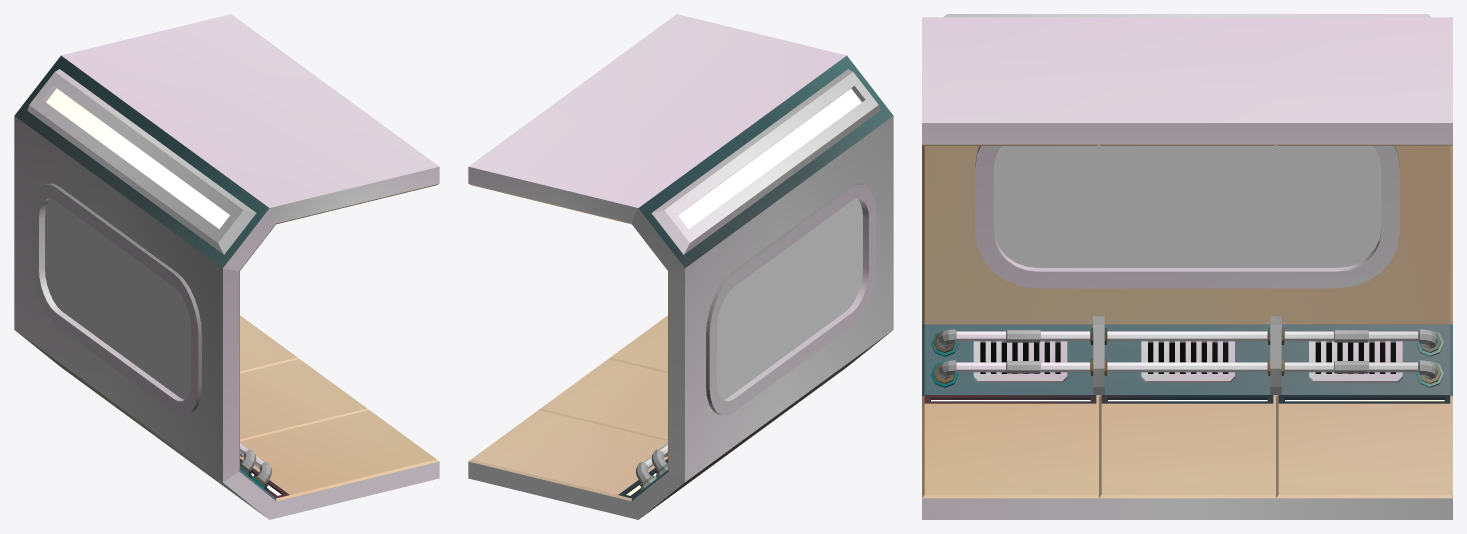
Rendered from C_Window.fbx.
3 renders of one model, left to right at view 1: azimuth 30°, elevation 25°; view 2: azimuth 150°, elevation 25°; view 3: azimuth 270°, elevation 25°, orthographic. The views are drawn at different scales.
Parts seen in each view (by area): view 1: C_Window; view 2: C_Window; view 3: C_Window.
Part boxes in pixels (bbox=[...]): C_Window: bbox=[14, 14, 439, 519]; C_Window: bbox=[468, 14, 893, 519]; C_Window: bbox=[922, 14, 1452, 519].
Bounding box in the file's own units: 244 × 330 × 400.
